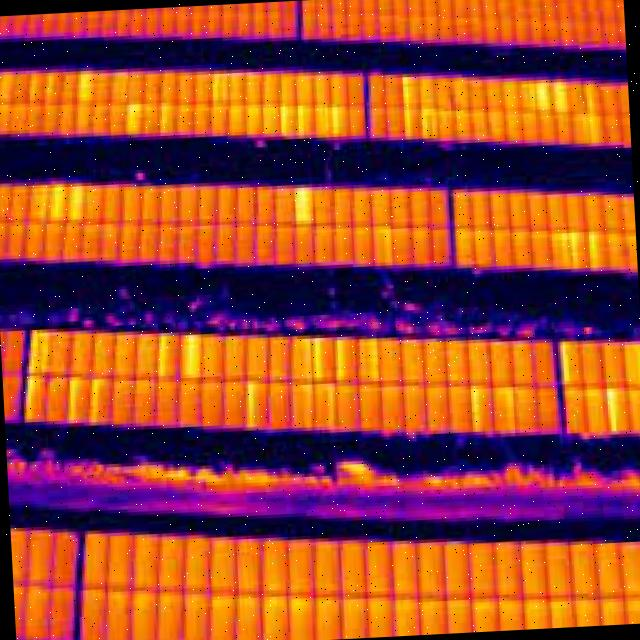Hotspot: (396, 74, 415, 140), (179, 332, 204, 381), (467, 378, 484, 436), (153, 332, 172, 382), (604, 384, 622, 434), (86, 374, 104, 424), (22, 372, 40, 421), (242, 378, 258, 428), (292, 187, 312, 226), (558, 338, 574, 386), (67, 373, 82, 424), (68, 184, 87, 224), (124, 100, 144, 136), (334, 337, 347, 383), (552, 81, 570, 112), (534, 79, 551, 111), (568, 230, 581, 270), (419, 105, 434, 139), (586, 231, 599, 270), (327, 384, 338, 430), (312, 336, 323, 379), (279, 102, 291, 138), (330, 104, 342, 139), (294, 104, 306, 139)
